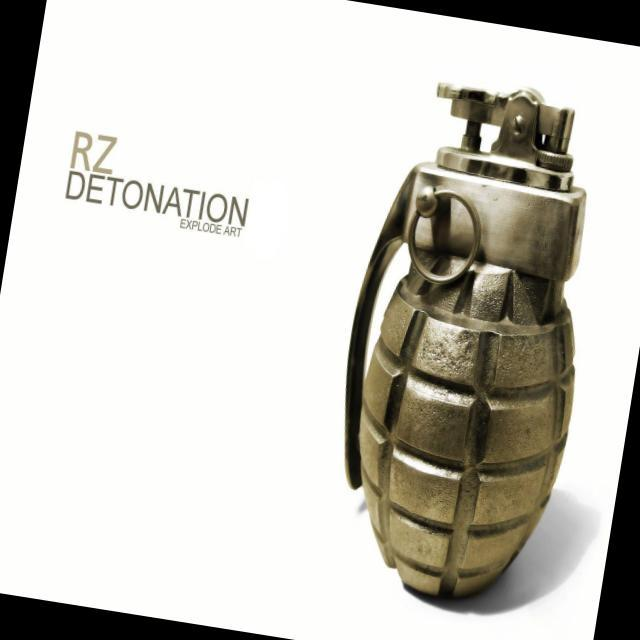grenade: (287, 56, 631, 629)
